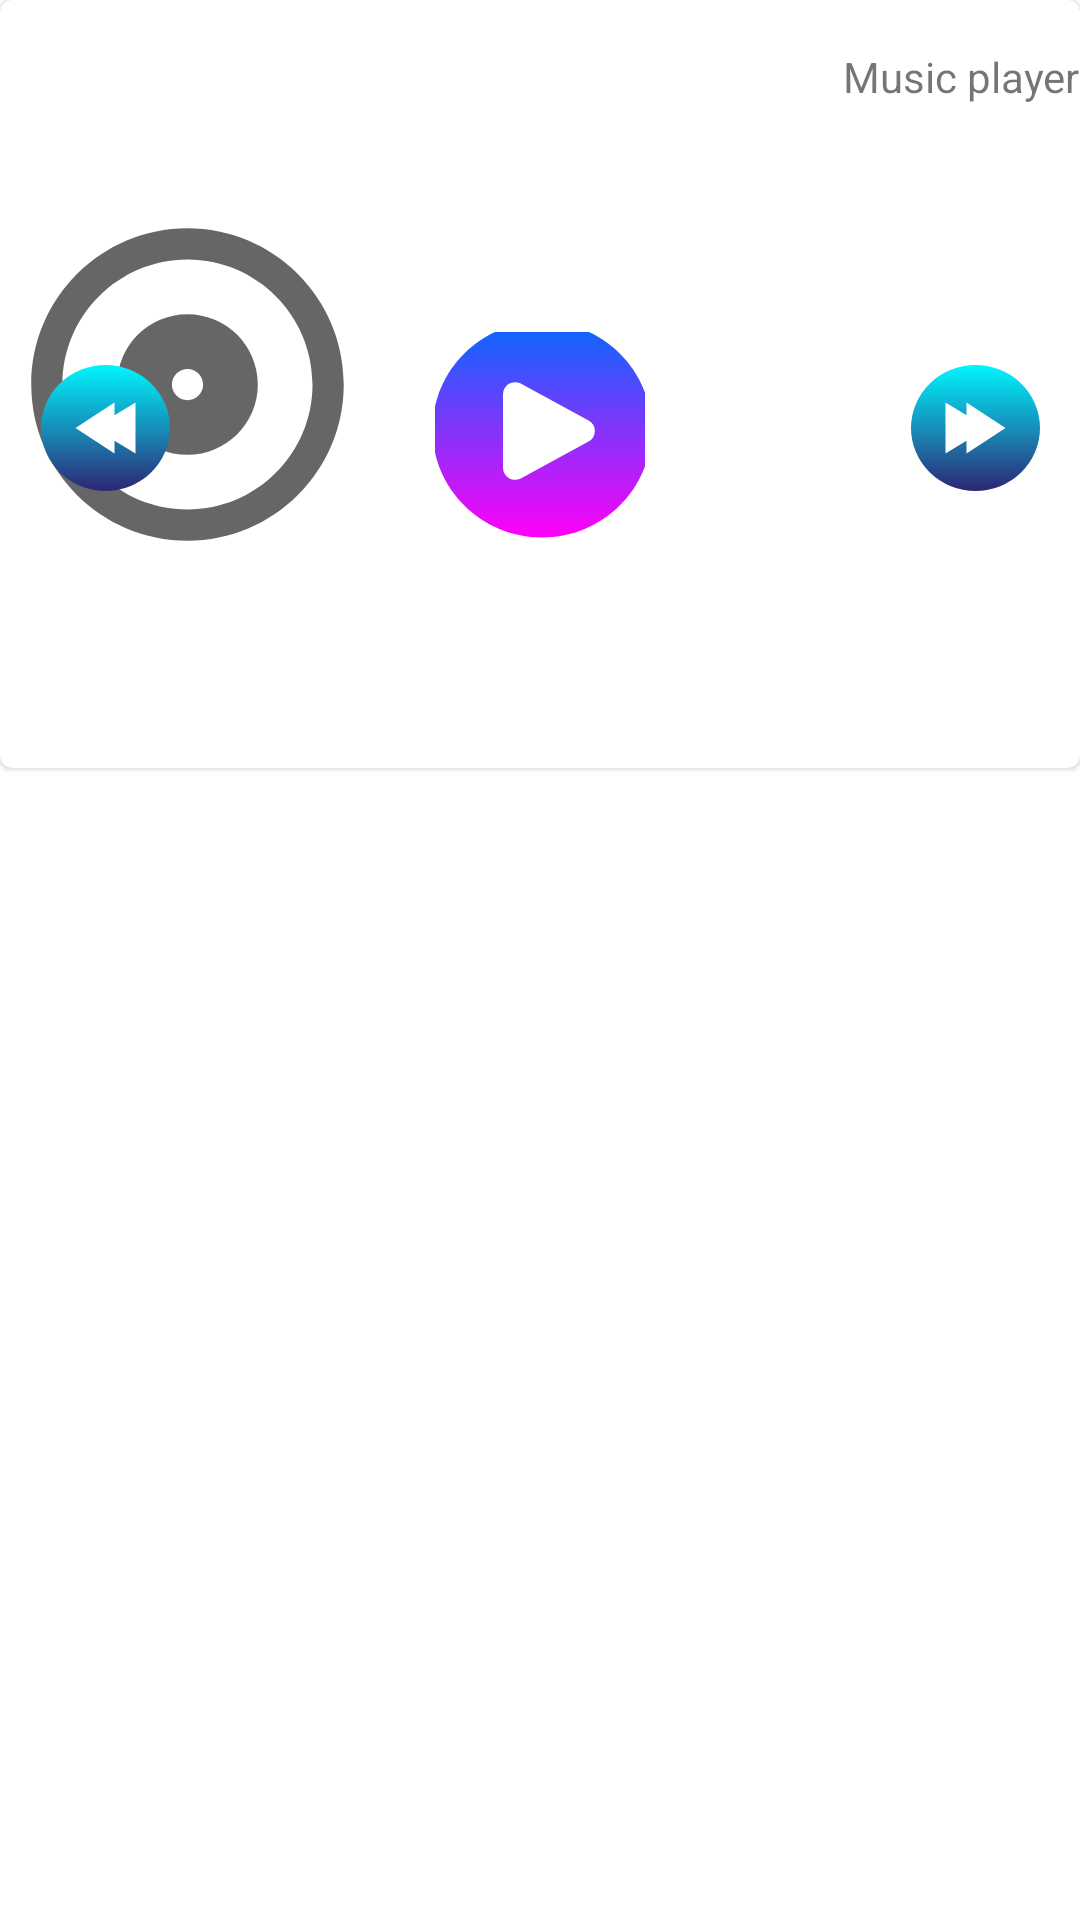

Named icons in this screenshot (1080px×1920px) and their bounding boxes, (left=x1, top=y1, right=x2, bottom=y2):
forward: (left=911, top=365, right=1040, bottom=491)
play: (left=435, top=332, right=645, bottom=538)
